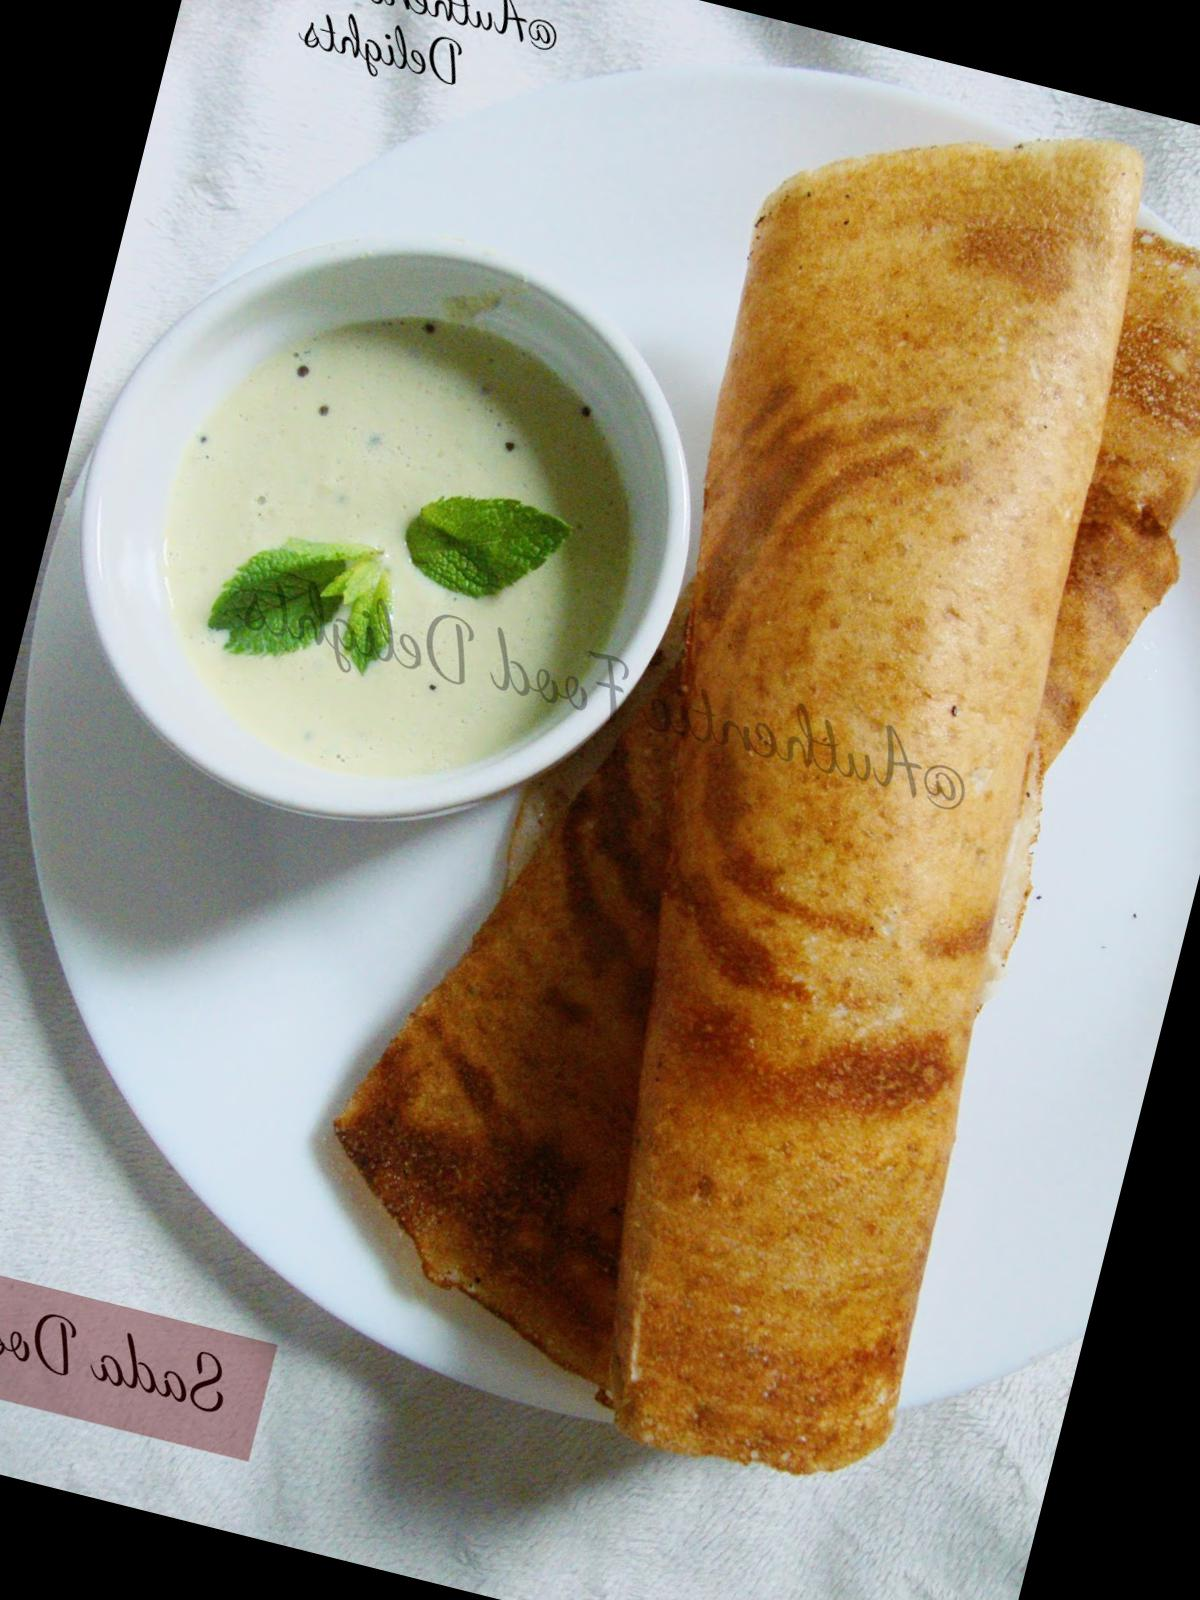dosa: (608, 139, 1129, 1484)
